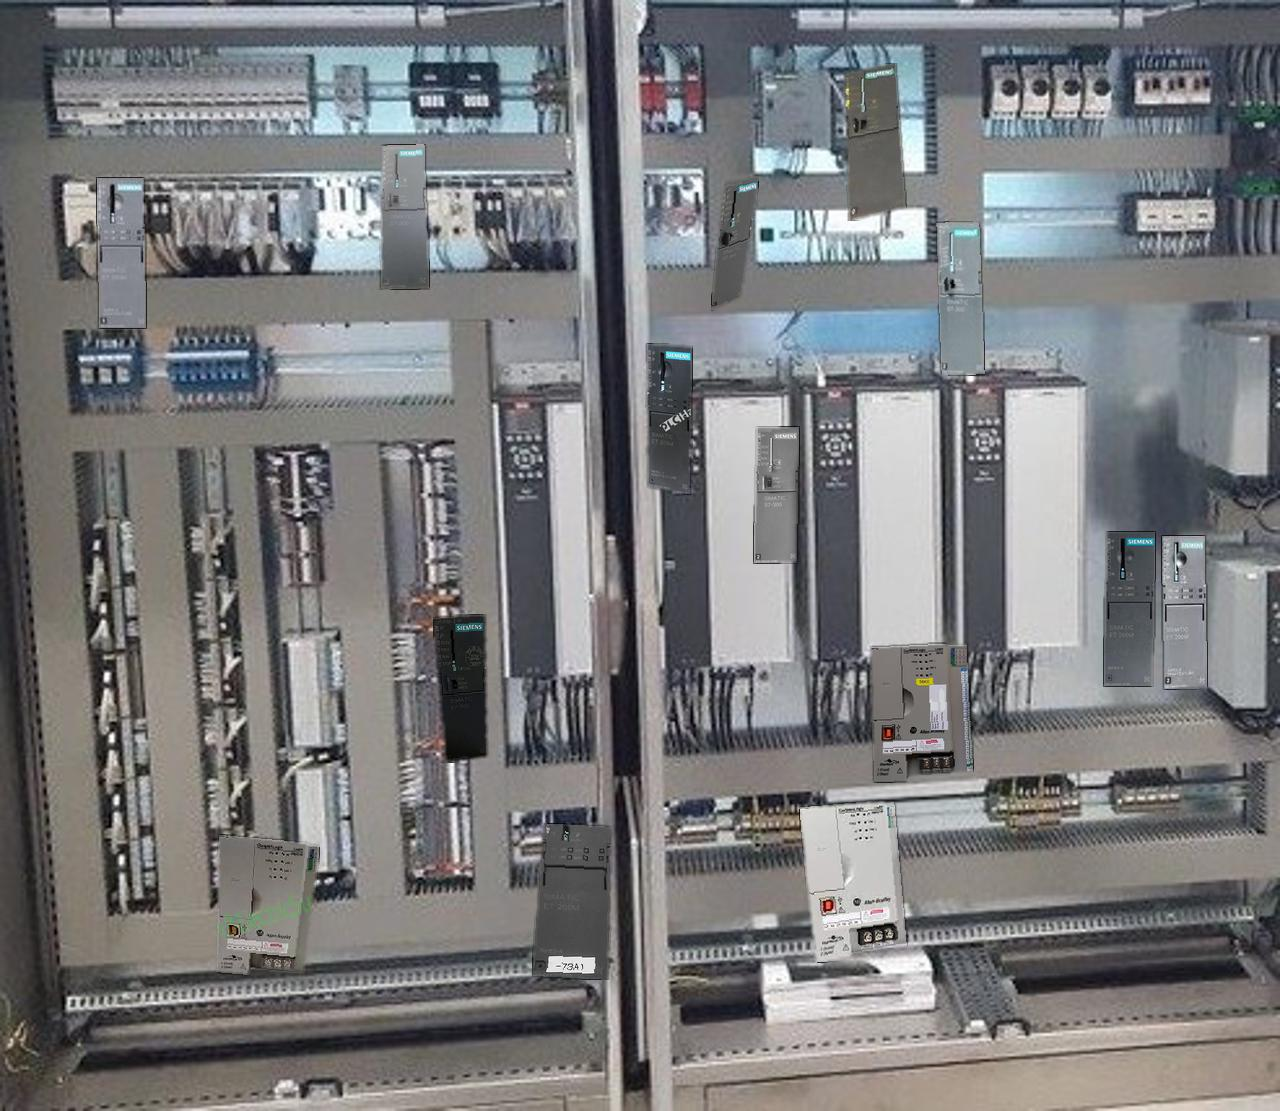AllenBradley: (799, 802, 906, 962), (216, 835, 319, 974), (871, 644, 972, 781)
Siemens: (845, 63, 904, 220), (433, 615, 487, 761), (937, 222, 984, 374), (381, 144, 428, 288), (711, 176, 758, 309), (754, 427, 798, 561)
